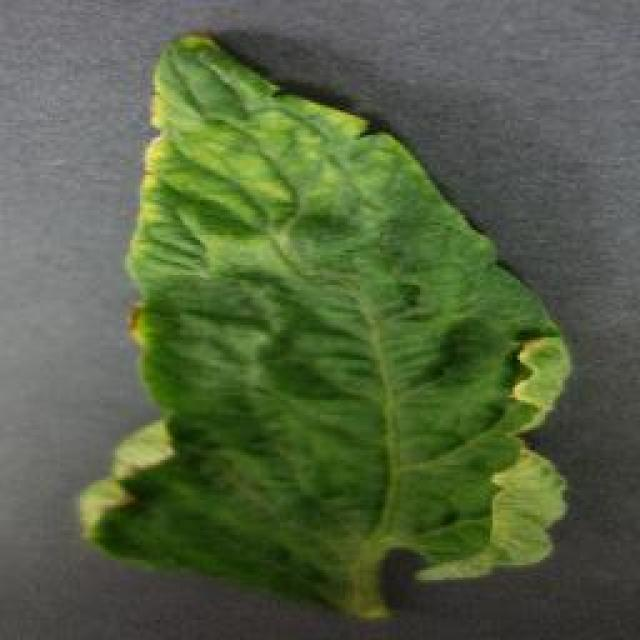Tom_Yellow_Leaf_Curl_Virus: (84, 36, 392, 588), (430, 272, 580, 602)
